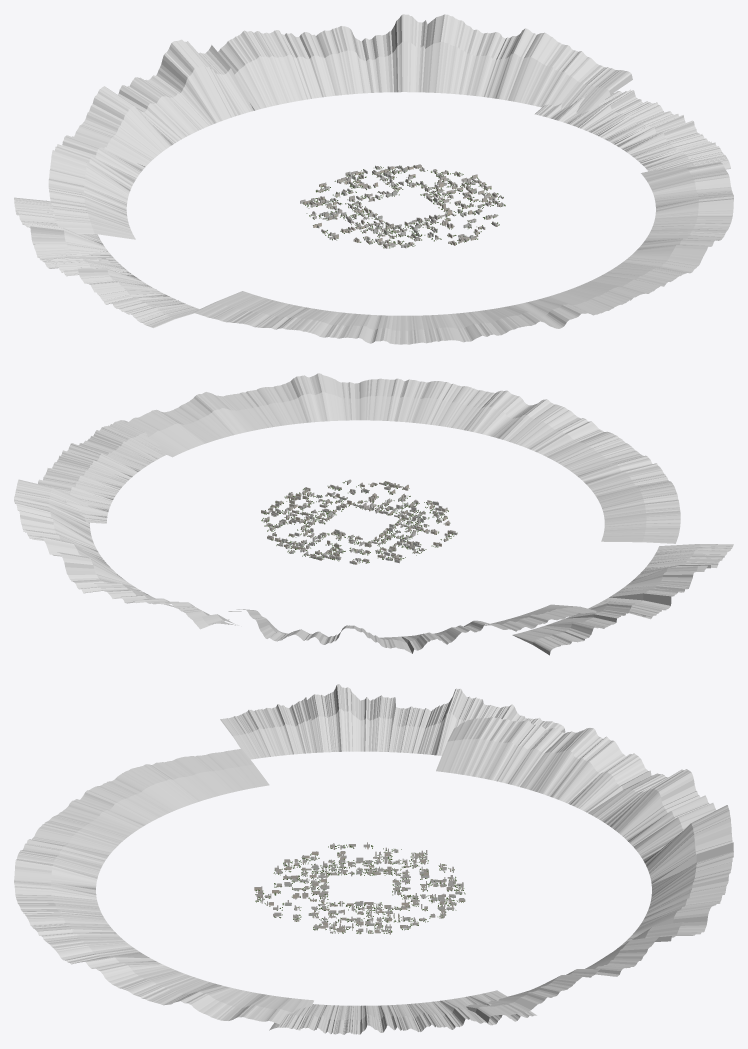
File: backdrop.glb
The picture shows the model from 3 angles, top to bottom: view 1: azimuth 30°, elevation 25°; view 2: azimuth 150°, elevation 25°; view 3: azimuth 270°, elevation 25°; orthographic projection. The views are drawn at different scales.
Parts seen in each view (by area): view 1: mountains, far_city; view 2: mountains, far_city; view 3: mountains, far_city.
Part boxes in pixels (box(x1,y1,x2,y2)): mountains: box(14, 14, 733, 344); far_city: box(300, 164, 505, 248); mountains: box(14, 373, 733, 655); far_city: box(261, 479, 457, 564); mountains: box(14, 684, 733, 1034); far_city: box(254, 842, 465, 934).
Size of the model in its own units: 8400 by 682 by 7900.
